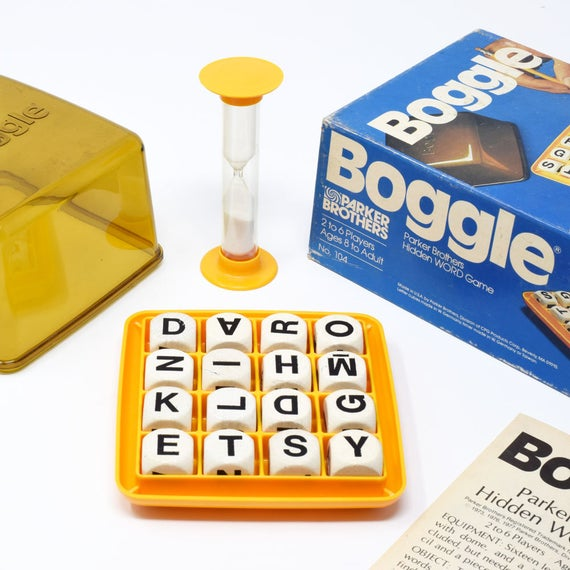boggle: (112, 305, 409, 522)
